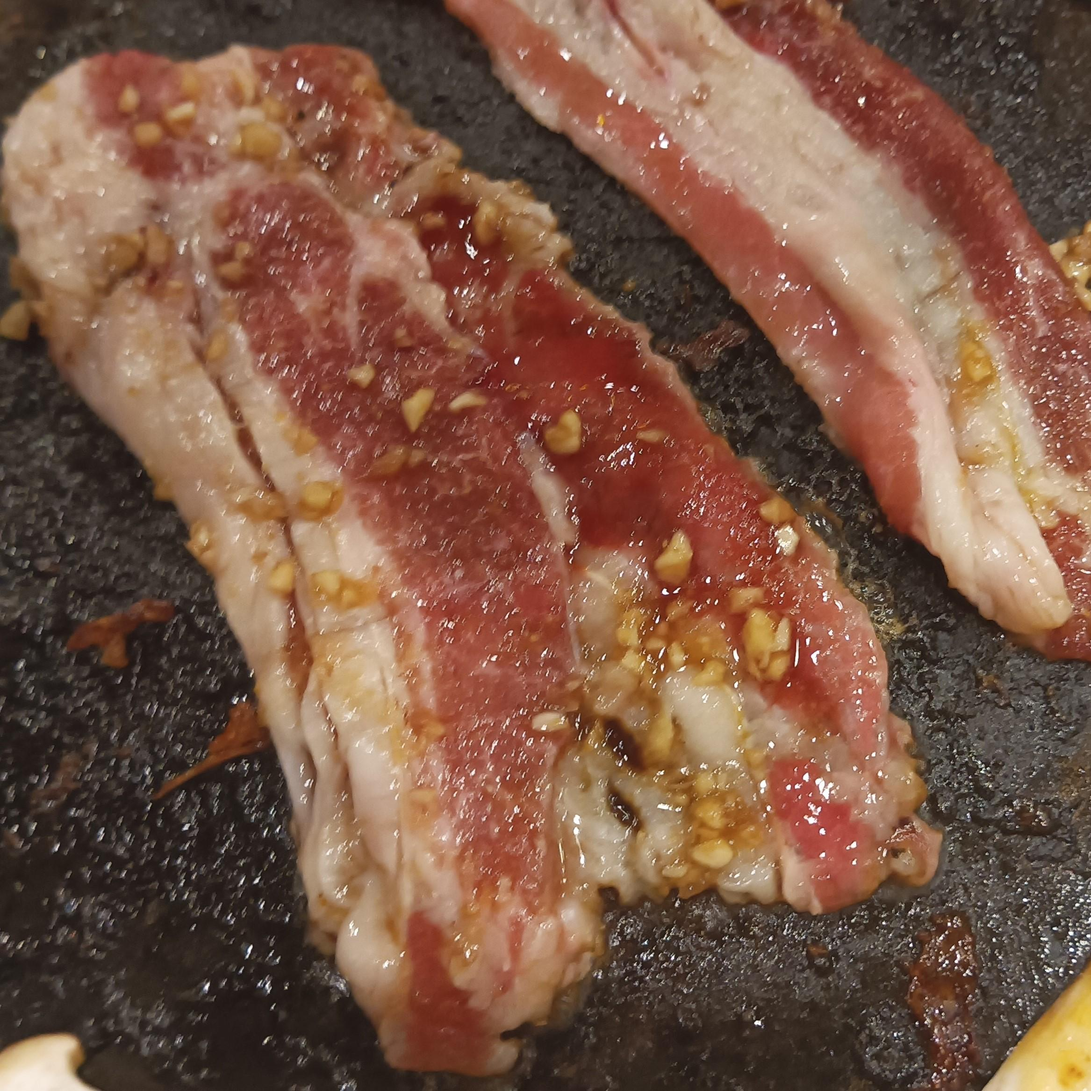Undercooked: (5, 45, 940, 1075), (448, 0, 1091, 659)
